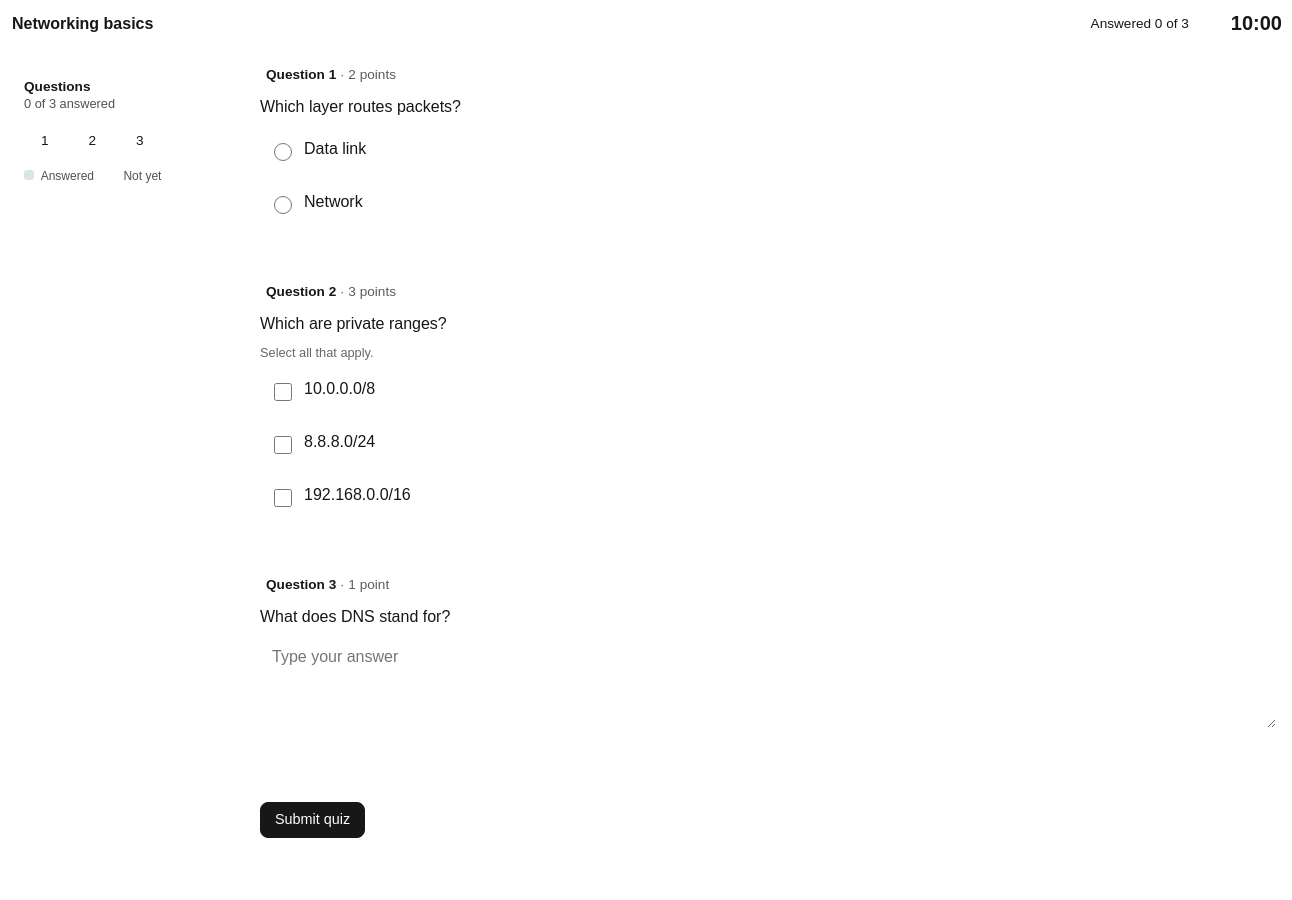
Test case: AttemptRunner › radio buttons replace the choice, and it can be cleared
Click the radio button labelled "Network": click(283, 205) 274,196 -> 292,214
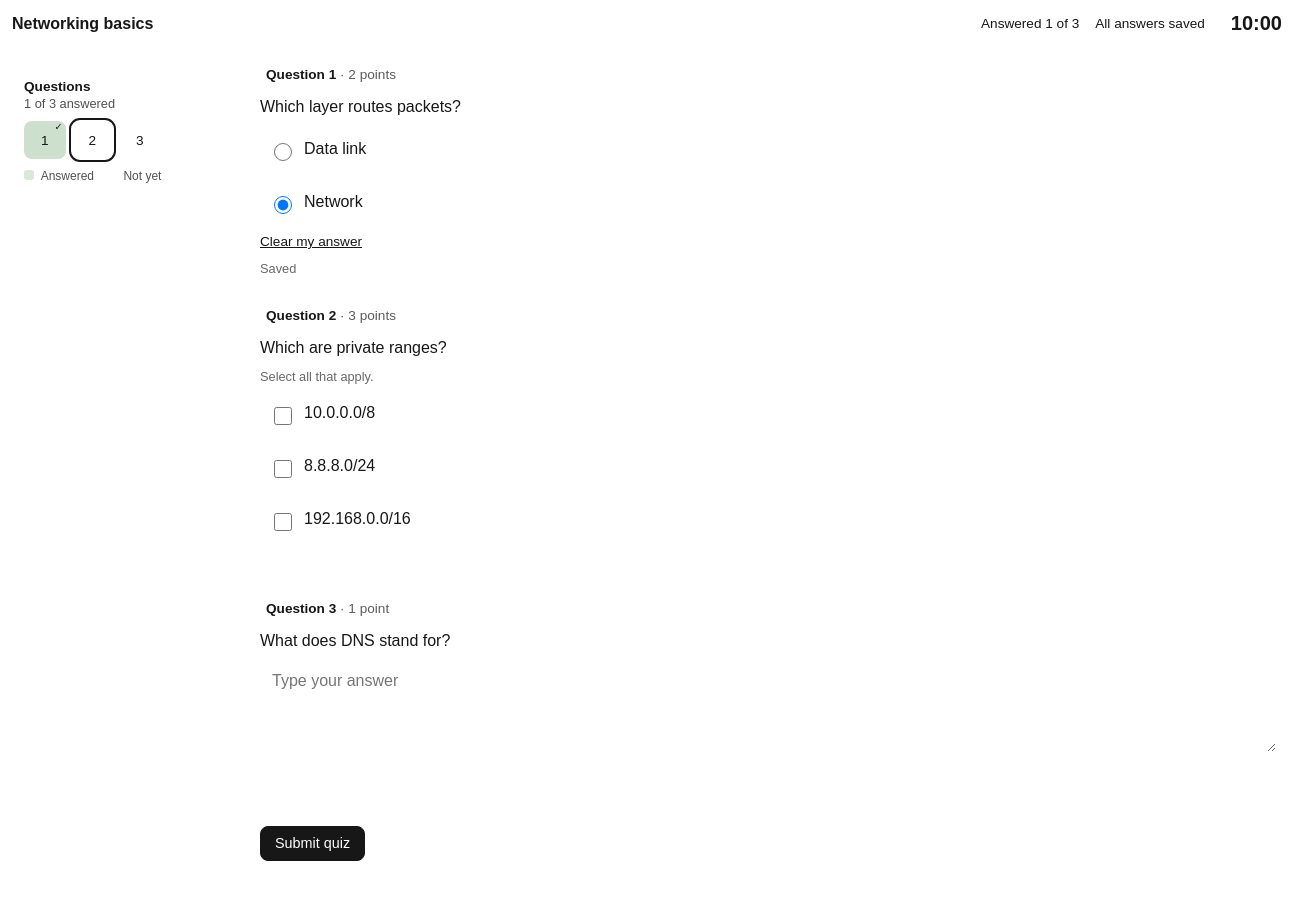
Click the radio button labelled "Data link": click(283, 152) 274,143 -> 292,161
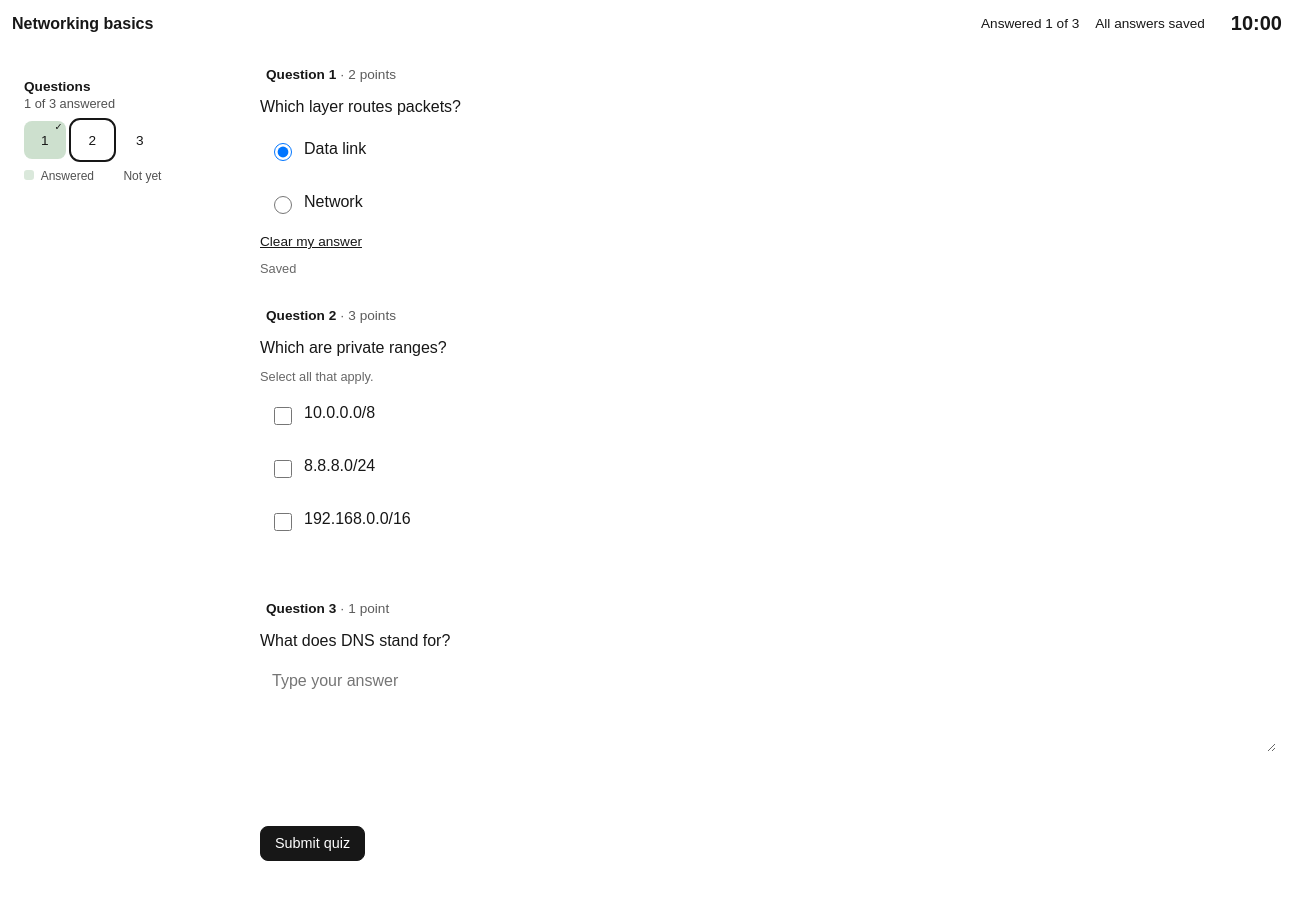
Click the button "Clear my answer": click(311, 242) 260,234 -> 362,249
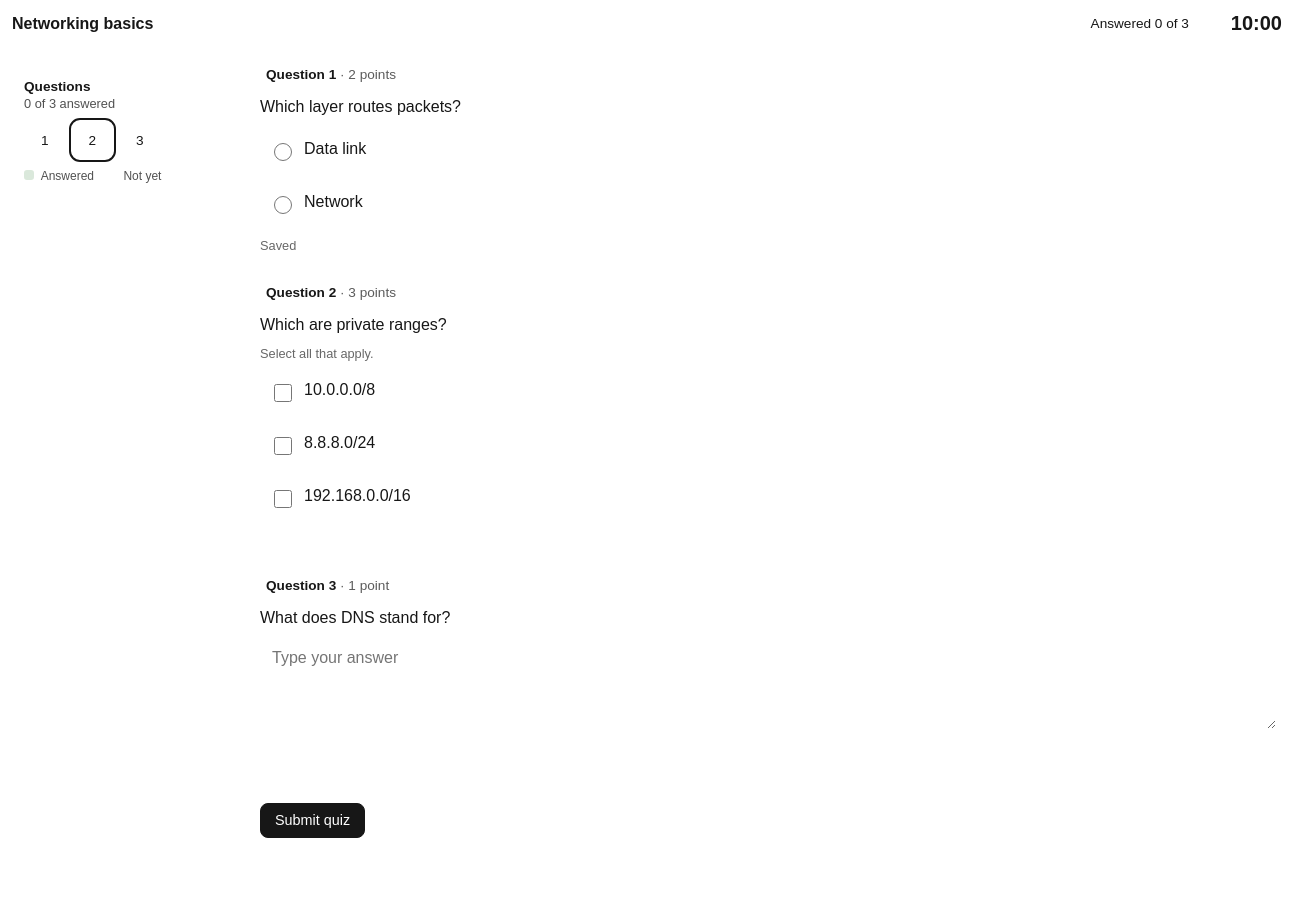
Check: the text "Answered 0 of 3" is shown, box 1091,16 -> 1189,31
